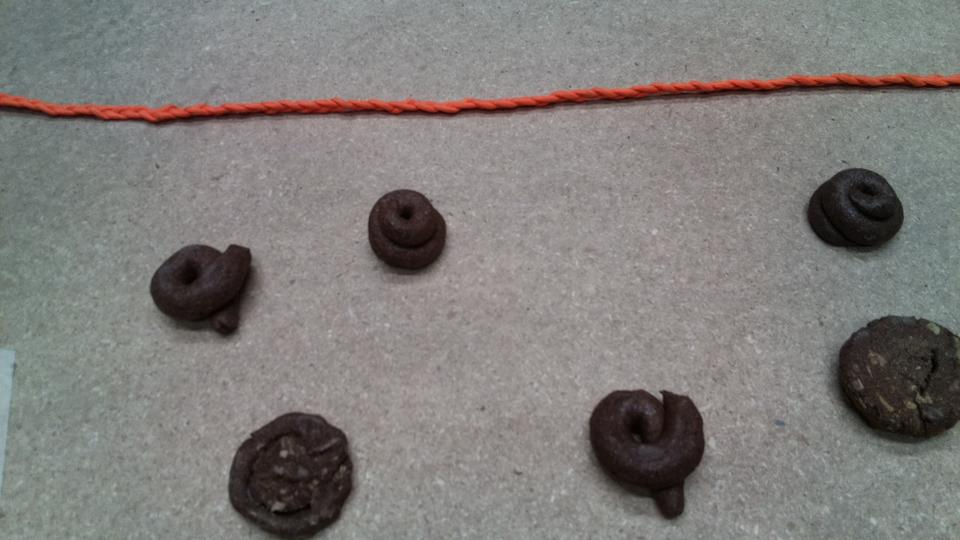poop: (817, 301, 960, 450), (586, 384, 716, 520), (226, 406, 357, 535), (141, 237, 270, 339), (800, 162, 911, 259), (360, 189, 451, 273)
rope: (1, 87, 776, 130), (579, 76, 960, 102)
